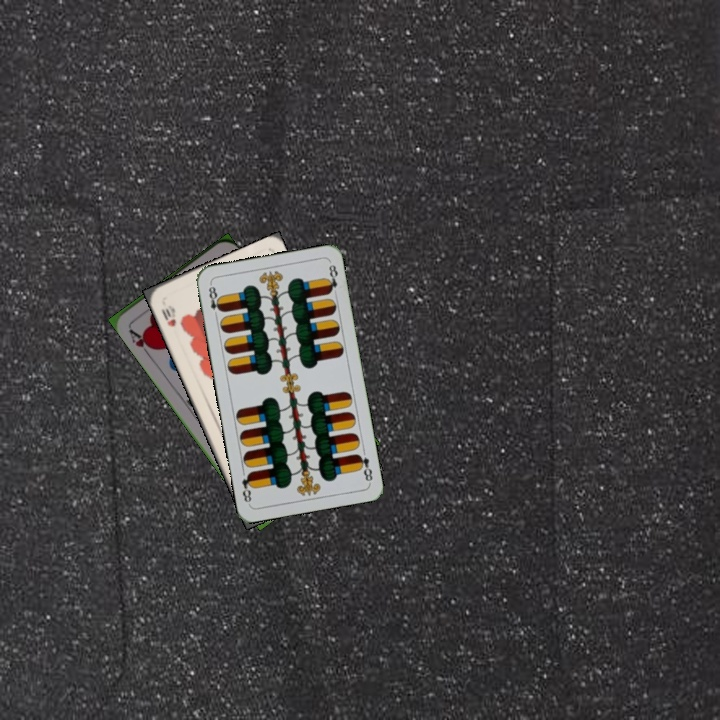E8: (205, 280, 225, 321), (353, 450, 375, 485)
H10: (157, 301, 179, 329)
HA: (124, 322, 157, 358)
